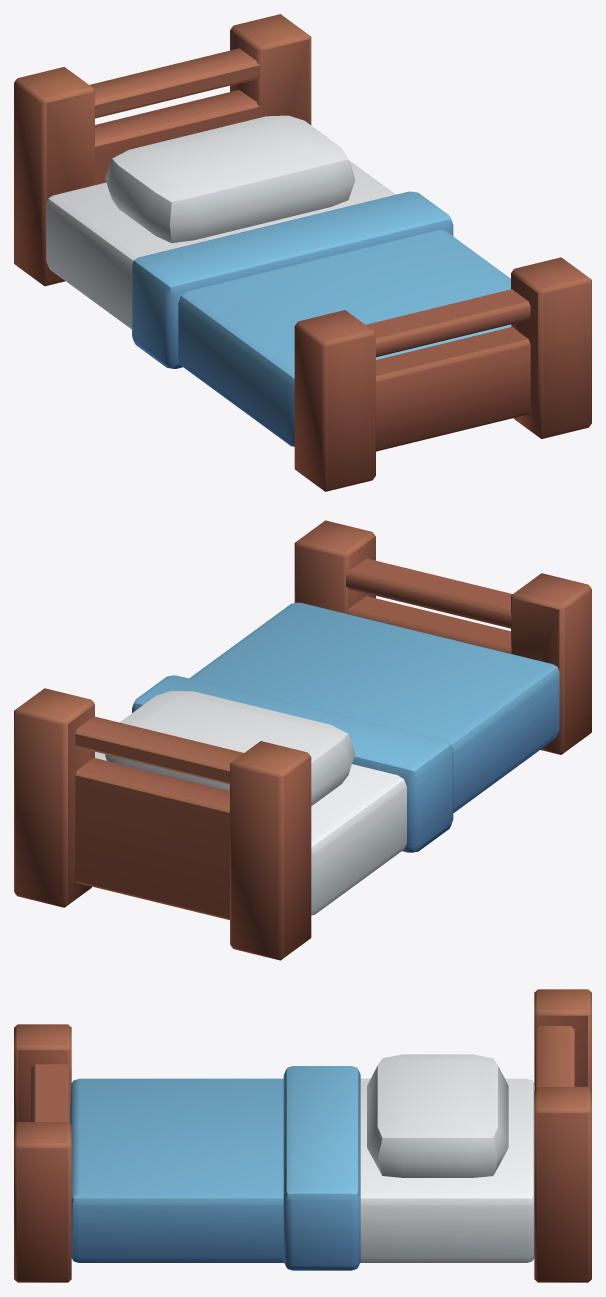
Rendered from bed_single_B.glb.
3 views of the same model, one above another, from view 1: azimuth 30°, elevation 25°; view 2: azimuth 150°, elevation 25°; view 3: azimuth 270°, elevation 25° (orthographic). The views are drawn at different scales.
Visible parts, largest first — view 1: bed_single_B; view 2: bed_single_B; view 3: bed_single_B.
Part boxes in pixels (x1=…): bed_single_B: x1=14, y1=14, x2=591, y2=491; bed_single_B: x1=14, y1=520, x2=591, y2=960; bed_single_B: x1=14, y1=989, x2=591, y2=1282.
Size of the model in its own units: 1.6 by 0.9999 by 3.
Materials: 1 (1 with a texture image).
